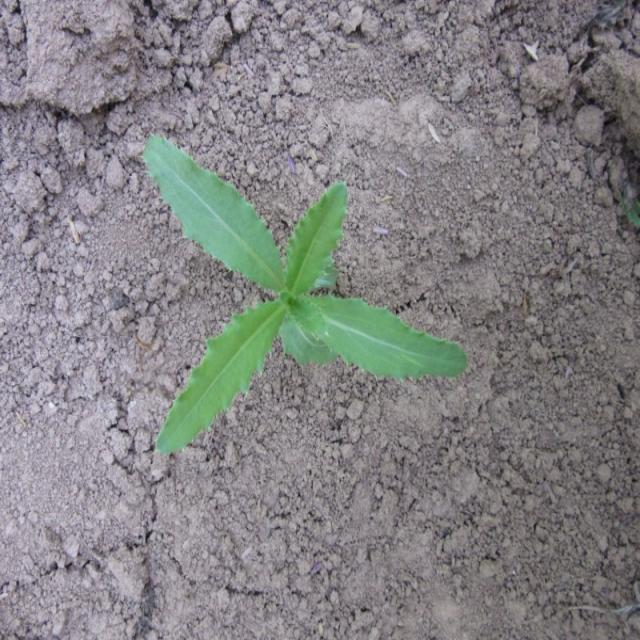cs: (140, 123, 472, 462)
